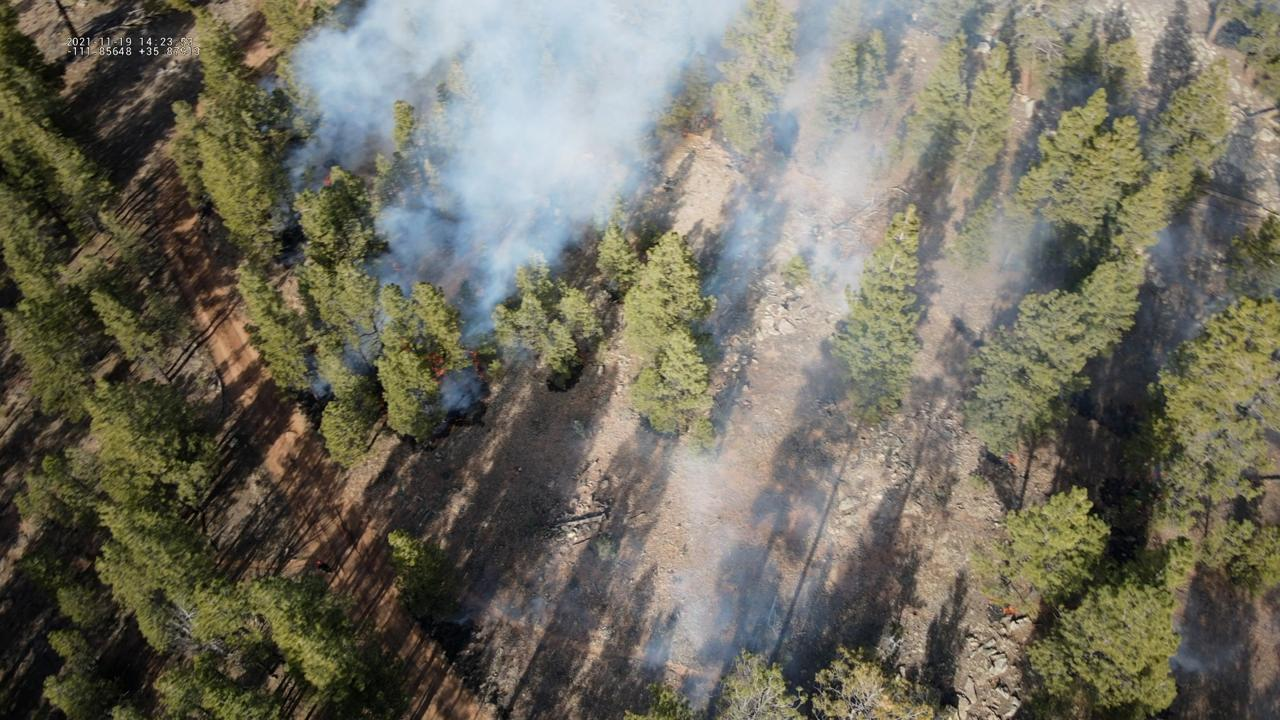fire: (427, 351, 448, 386), (468, 349, 487, 381), (320, 173, 335, 189), (1000, 605, 1017, 617)
smoke: (252, 0, 1077, 414), (640, 437, 831, 720), (1141, 222, 1280, 345), (1168, 636, 1217, 679), (451, 609, 475, 630)
